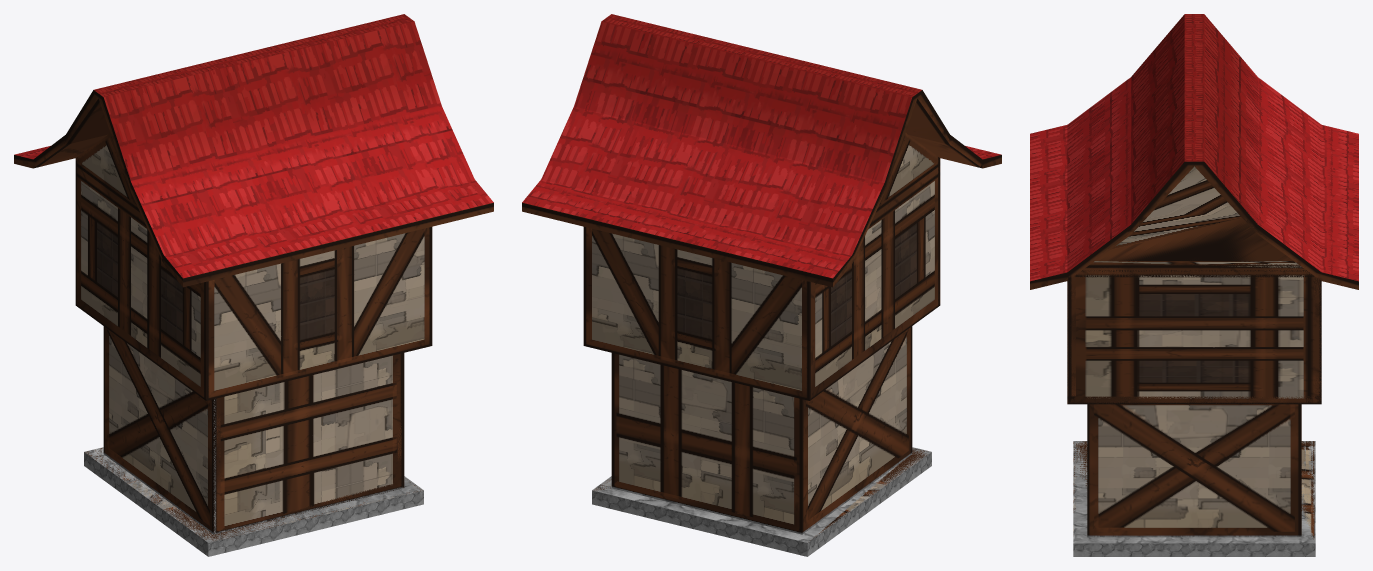
The model's file is House Base4_A.fbx.
The picture shows the model from 3 angles, left to right: view 1: azimuth 30°, elevation 25°; view 2: azimuth 150°, elevation 25°; view 3: azimuth 270°, elevation 25°; orthographic projection. The views are drawn at different scales.
Parts seen in each view (by area): view 1: House Base 4a, House Base 4a_col; view 2: House Base 4a, House Base 4a_col; view 3: House Base 4a, House Base 4a_col.
Part boxes in pixels (<box>): House Base 4a: <box>14,14,493,556</box>; House Base 4a_col: <box>75,133,432,542</box>; House Base 4a: <box>522,14,1001,556</box>; House Base 4a_col: <box>583,133,940,540</box>; House Base 4a: <box>1030,14,1358,556</box>; House Base 4a_col: <box>1067,166,1321,543</box>.
Bounding box in the file's own units: 958 × 1264 × 902.
